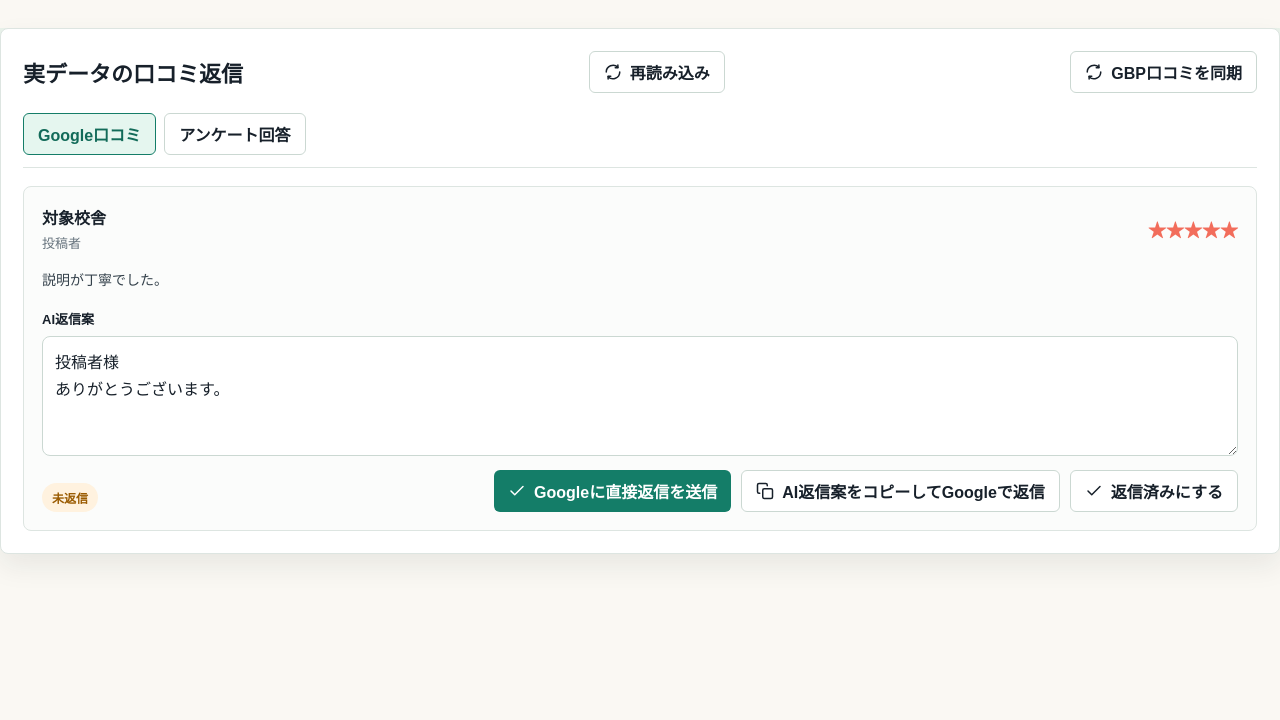
ReviewsClient direct Google replies › retains the last list and edited draft when sync is blocked (403)
Expected: the text "投稿者" is shown, [42,236,81,251]
Replace the text in the text box labelled "AI返信案" with "編集中の本文" at (640, 396), box [42,336,1238,456]
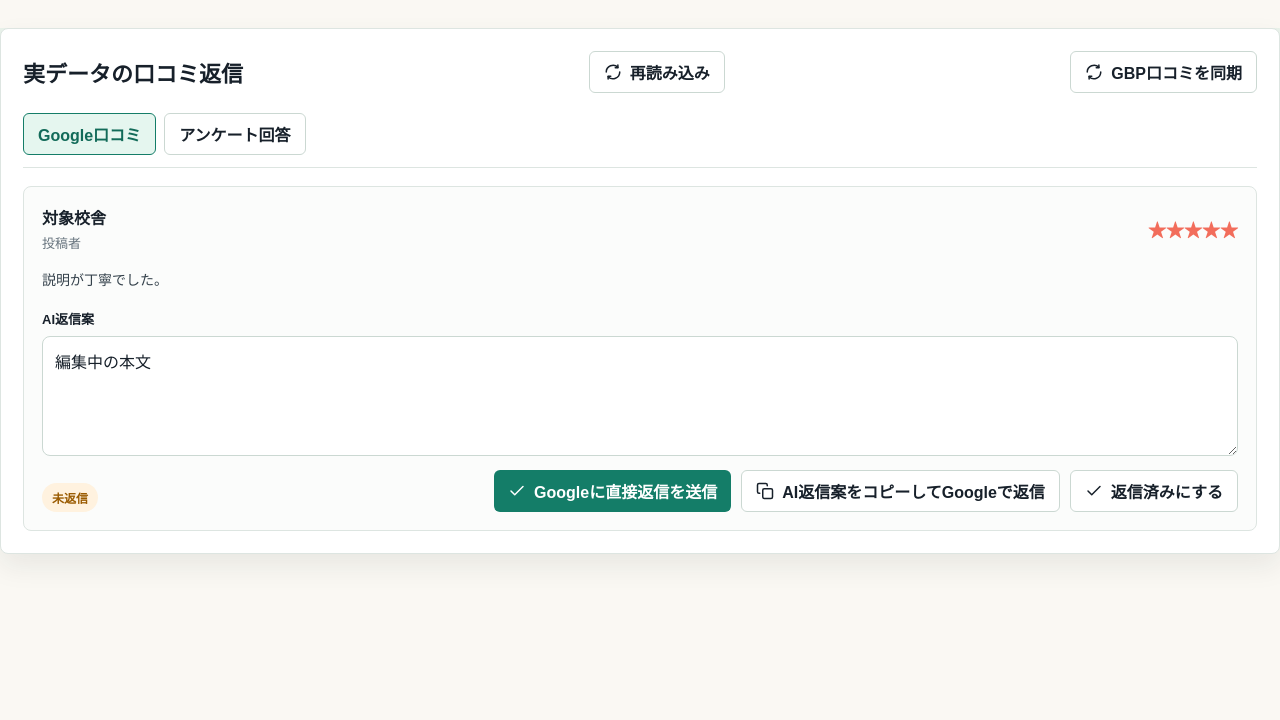
Click the button "GBP口コミを同期" at (1164, 72), box [1070,51,1257,93]
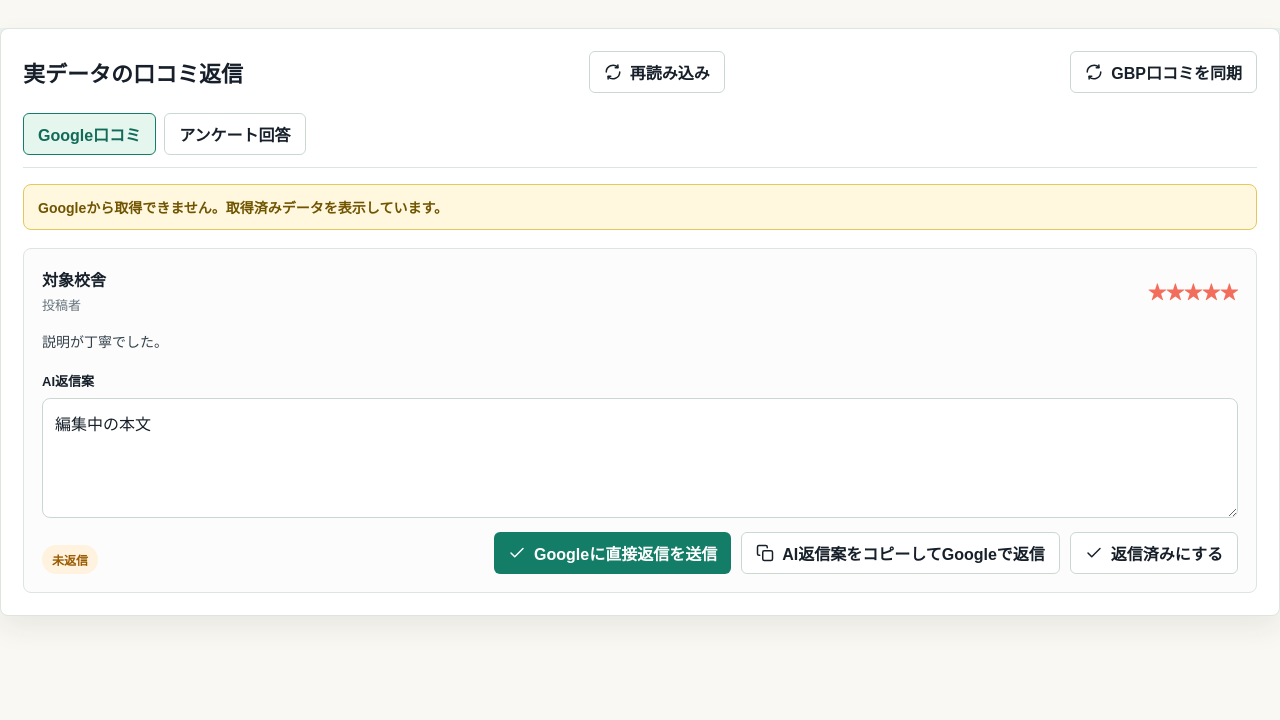
Expected: the text "投稿者" is shown, [42,298,81,313]
Expected: the text "Googleから取得できません。取得済みデータを表示しています。" is shown, [23,184,1257,230]
